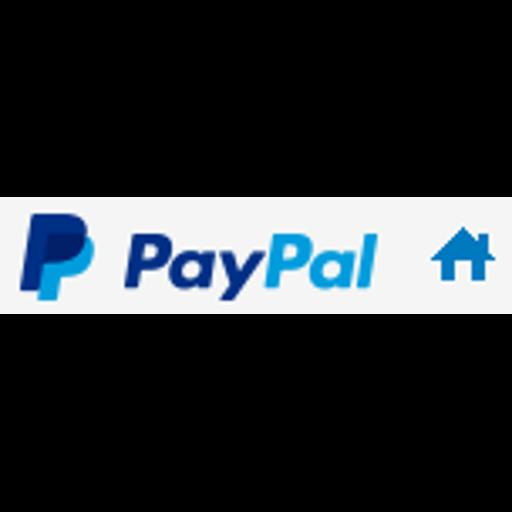PayPal: (0, 197, 512, 314)
